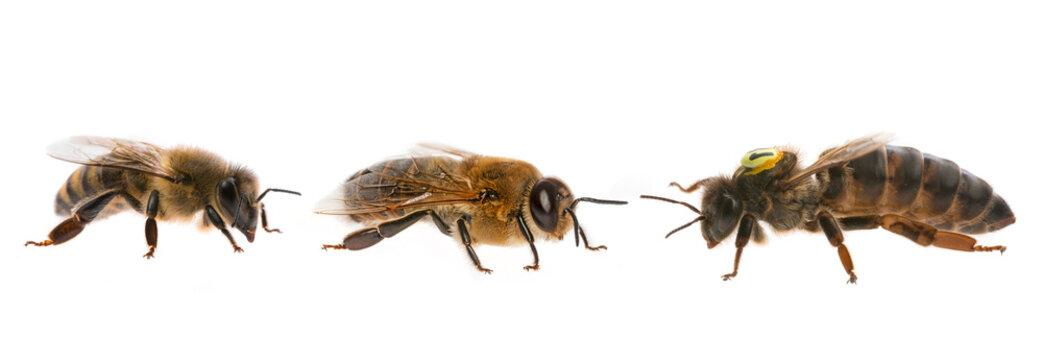Queen-Bee: (635, 73, 1025, 311)
